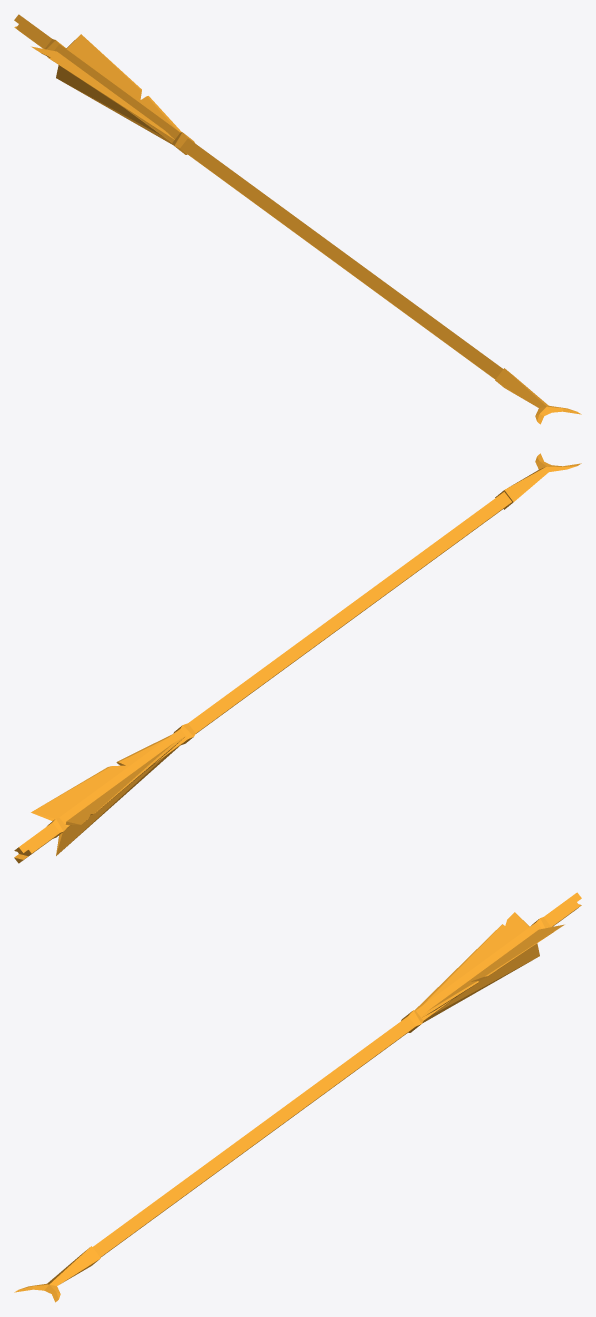
The model's file is SM_Arrow_Color_F_Fantasy.fbx.
The picture shows the model from 3 angles, top to bottom: view 1: azimuth 30°, elevation 25°; view 2: azimuth 150°, elevation 25°; view 3: azimuth 330°, elevation 25°; orthographic projection.
Visible parts, largest first — view 1: arrow-color-f-fantasy; view 2: arrow-color-f-fantasy; view 3: arrow-color-f-fantasy.
Boxes of the visible parts, bbox=[...] form: arrow-color-f-fantasy: bbox=[14, 14, 581, 424]; arrow-color-f-fantasy: bbox=[14, 453, 581, 863]; arrow-color-f-fantasy: bbox=[14, 892, 581, 1302].
Bounding box in the file's own units: 0.054 × 0.0395 × 1.
